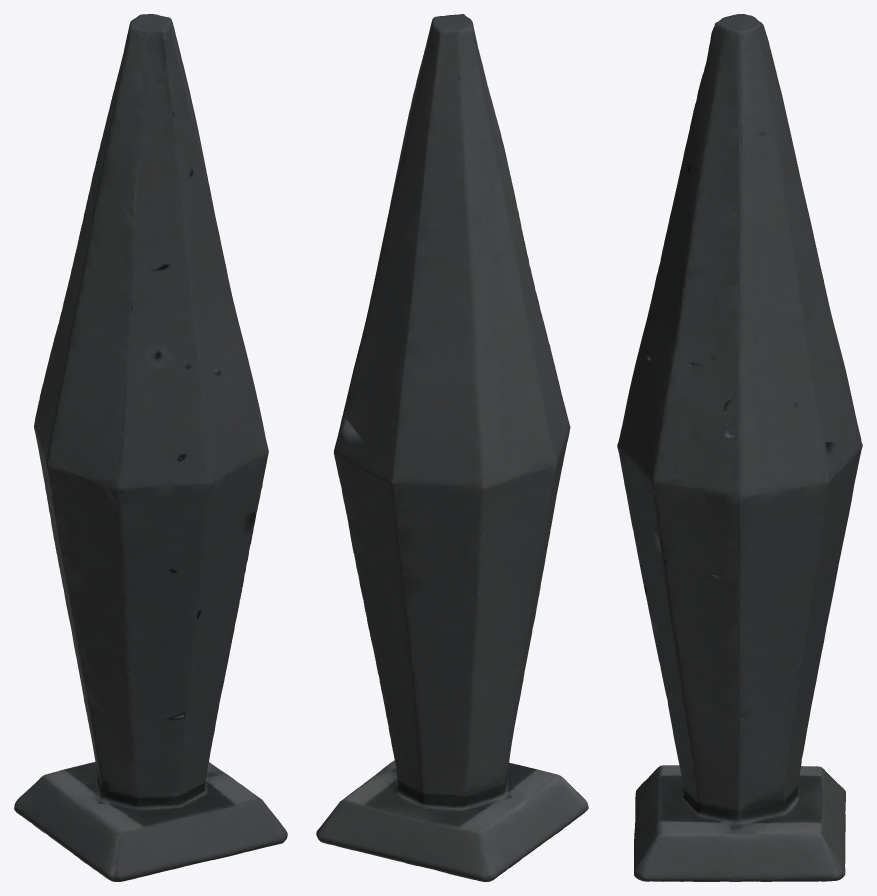
Rendered from apex-monolith.glb.
3 views of the same model, side by side, from view 1: azimuth 30°, elevation 25°; view 2: azimuth 150°, elevation 25°; view 3: azimuth 270°, elevation 25° (orthographic).
Size of the model in its own units: 0.545 by 2 by 0.5452.
1 material, 1 textured.
